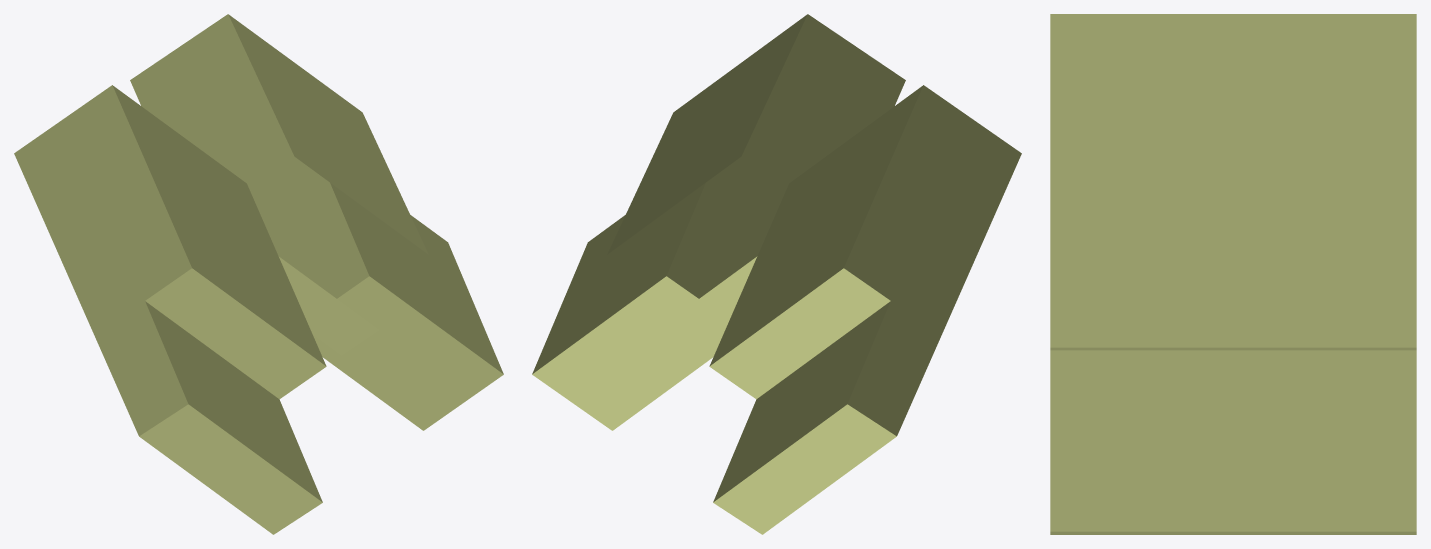
The picture shows the model from 3 angles, left to right: view 1: azimuth 30°, elevation 25°; view 2: azimuth 150°, elevation 25°; view 3: azimuth 270°, elevation 25°; orthographic projection. The views are drawn at different scales.
Visible parts, largest first — view 1: 0_1_0_2_0_2_0_0_3_3; view 2: 0_1_0_2_0_2_0_0_3_3; view 3: 0_1_0_2_0_2_0_0_3_3.
Boxes of the visible parts, box(x1,y1,x2,y2) form: 0_1_0_2_0_2_0_0_3_3: box(14, 14, 503, 534); 0_1_0_2_0_2_0_0_3_3: box(532, 14, 1021, 534); 0_1_0_2_0_2_0_0_3_3: box(1050, 14, 1416, 534).
Bounding box in the file's own units: 13.73 × 14.79 × 9.
